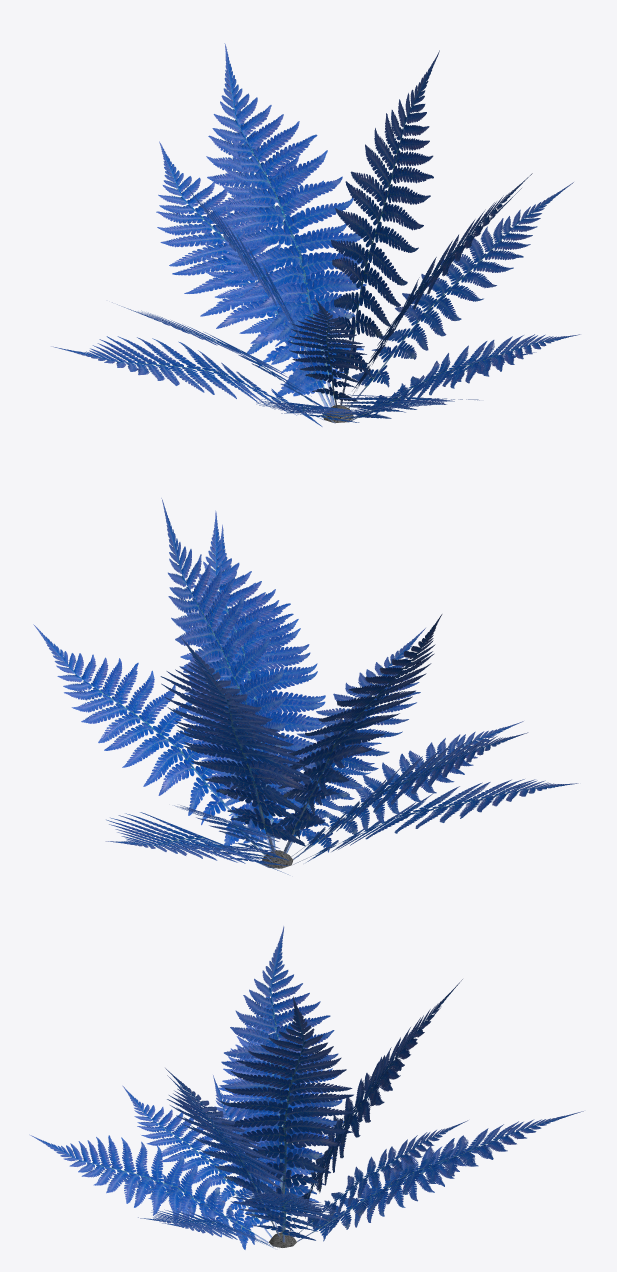
Rendered from Fern_Small.fbx.
3 views of the same model, one above another, from view 1: azimuth 30°, elevation 25°; view 2: azimuth 150°, elevation 25°; view 3: azimuth 270°, elevation 25° (orthographic). The views are drawn at different scales.
Parts seen in each view (by area): view 1: Sphere; view 2: Sphere; view 3: Sphere.
Boxes of the visible parts, box(x1,y1,x2,y2) form: Sphere: box(51, 43, 580, 426); Sphere: box(33, 498, 578, 874); Sphere: box(29, 926, 583, 1249).
Size of the model in its own units: 211 by 129 by 220.
